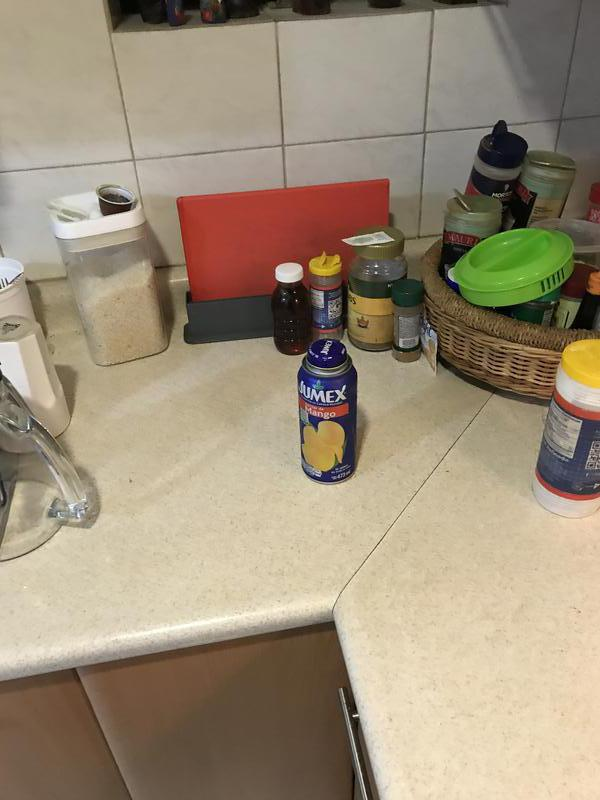jugo_jumex: (297, 338, 360, 487)
